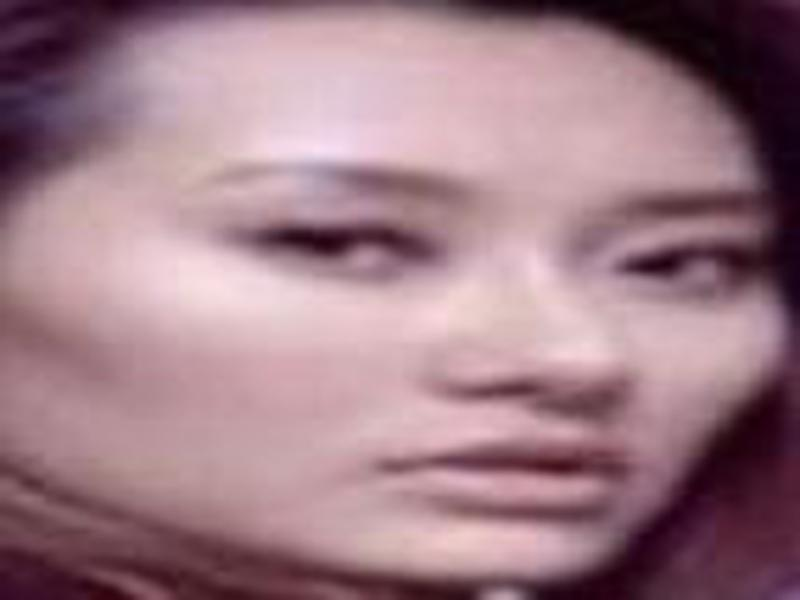without_mask: (10, 8, 797, 587)
